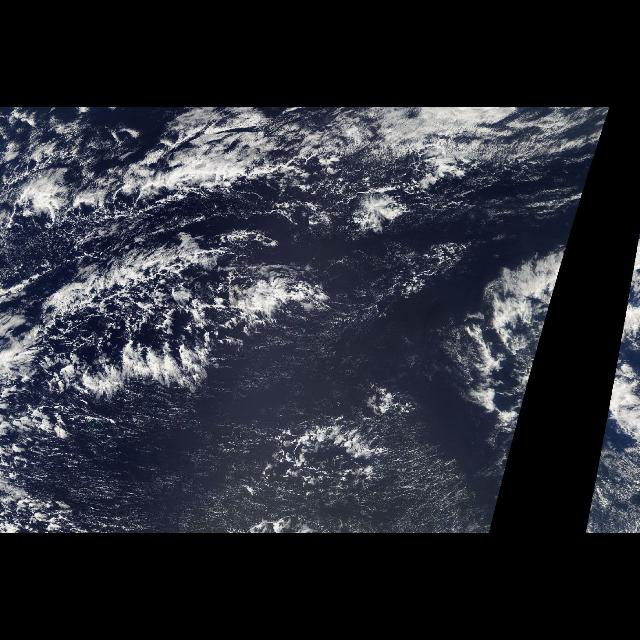Fish: (13, 172, 359, 328)
Gravel: (266, 388, 446, 534)
Sugar: (54, 351, 493, 533)
